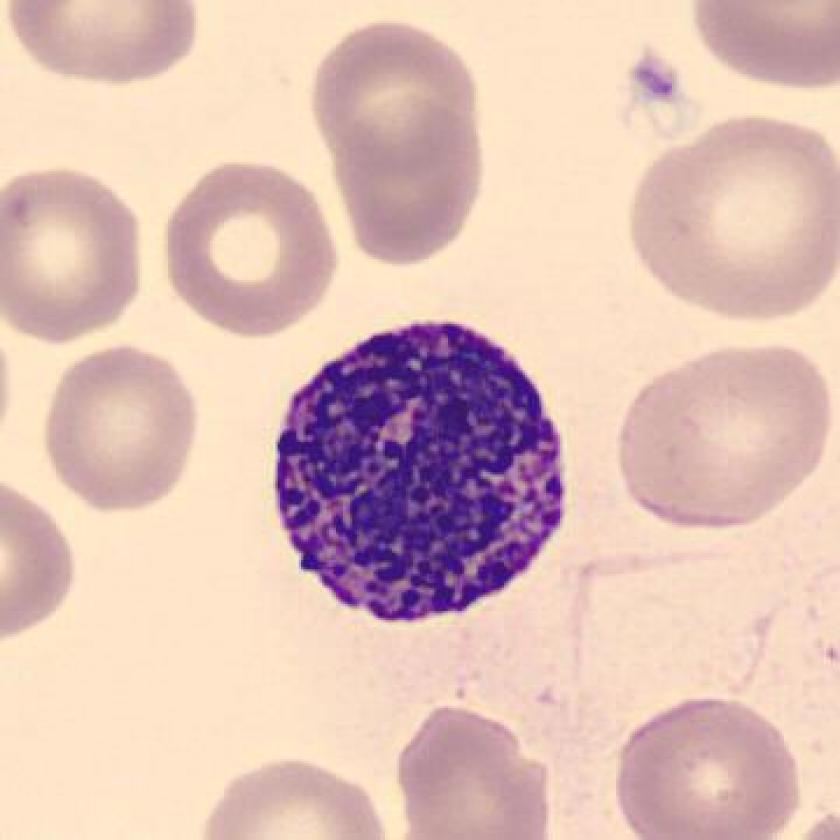basophil: (267, 314, 587, 638)
